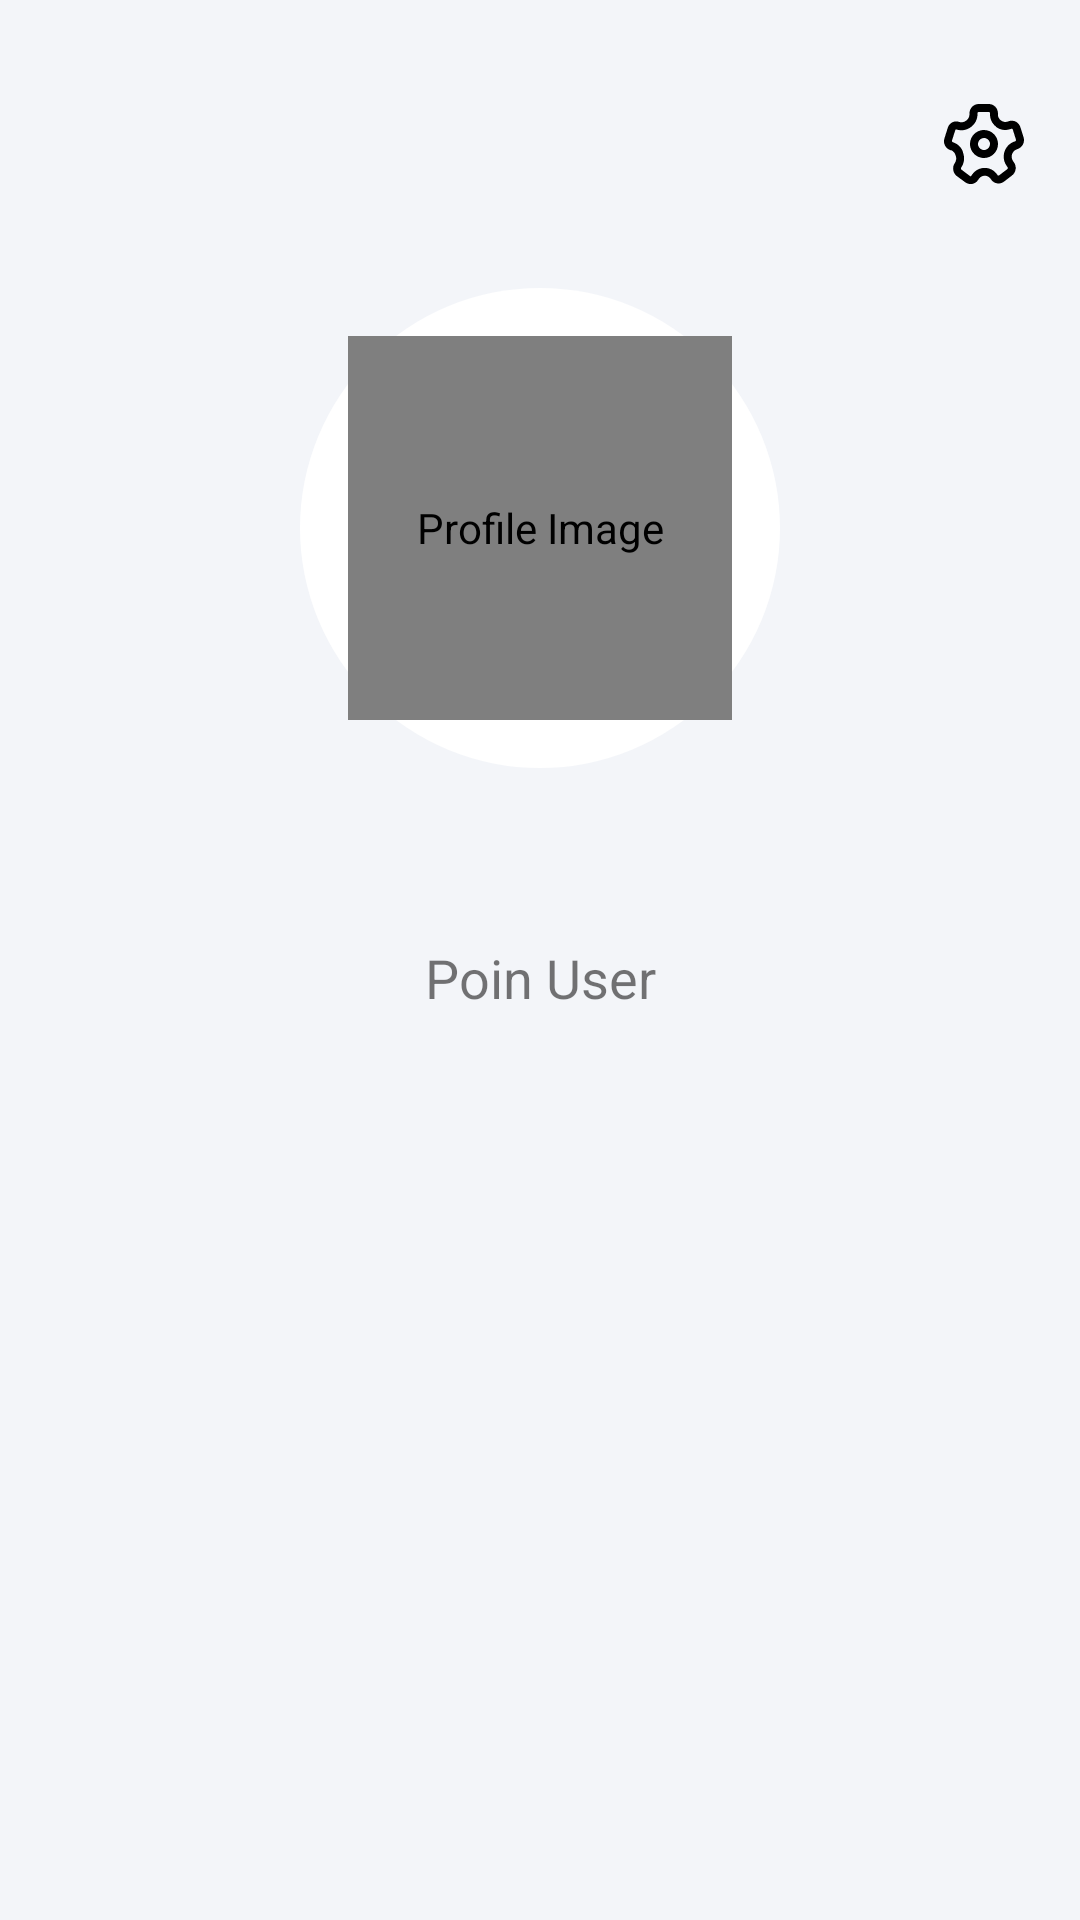

Screen size 1080*1920. Icon name, then its box in pixels as (x1, y1, x2, y2):
setting: (944, 104, 1024, 184)
